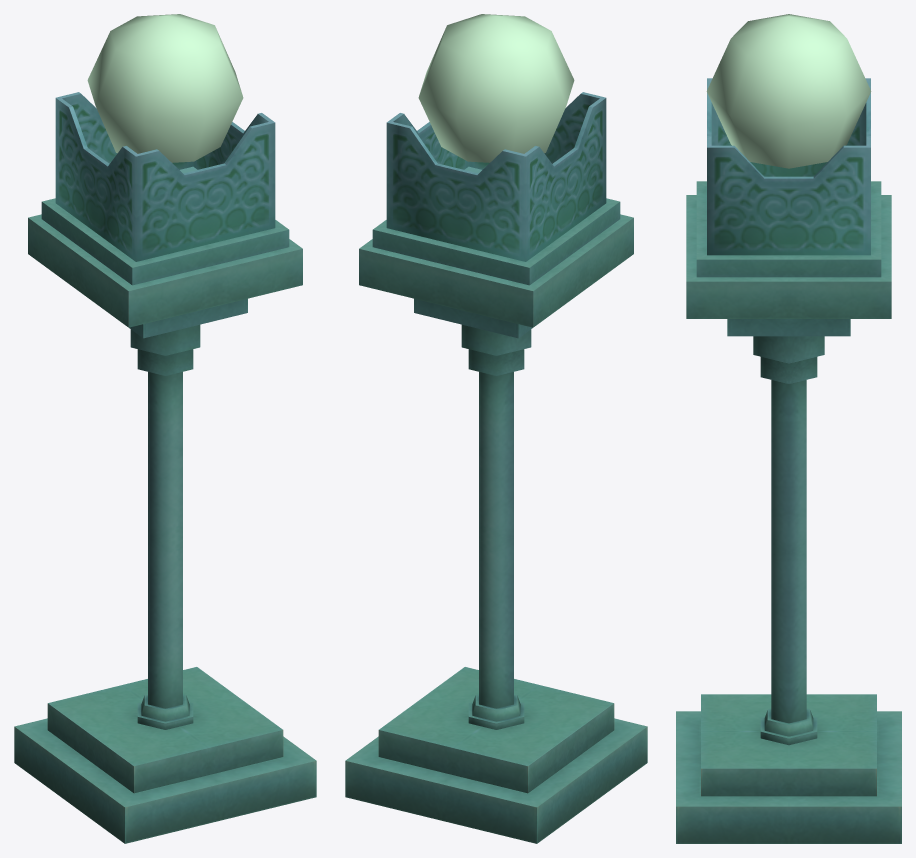
File: M3_B_luodideng.FBX
3 renders of one model, left to right at view 1: azimuth 30°, elevation 25°; view 2: azimuth 150°, elevation 25°; view 3: azimuth 270°, elevation 25°, orthographic. The views are drawn at different scales.
Visible parts, largest first — view 1: M3_B_luodideng, M3_B_luodidengqiu; view 2: M3_B_luodideng, M3_B_luodidengqiu; view 3: M3_B_luodideng, M3_B_luodidengqiu.
Part boxes in pixels (left/top/right/bottom): M3_B_luodideng: left=14, top=92, right=316, bottom=843; M3_B_luodidengqiu: left=87, top=14, right=243, bottom=162; M3_B_luodideng: left=345, top=92, right=647, bottom=843; M3_B_luodidengqiu: left=418, top=14, right=574, bottom=162; M3_B_luodideng: left=676, top=78, right=901, bottom=843; M3_B_luodidengqiu: left=706, top=14, right=871, bottom=168.
Bounding box in the file's own units: 55 × 210 × 55.
